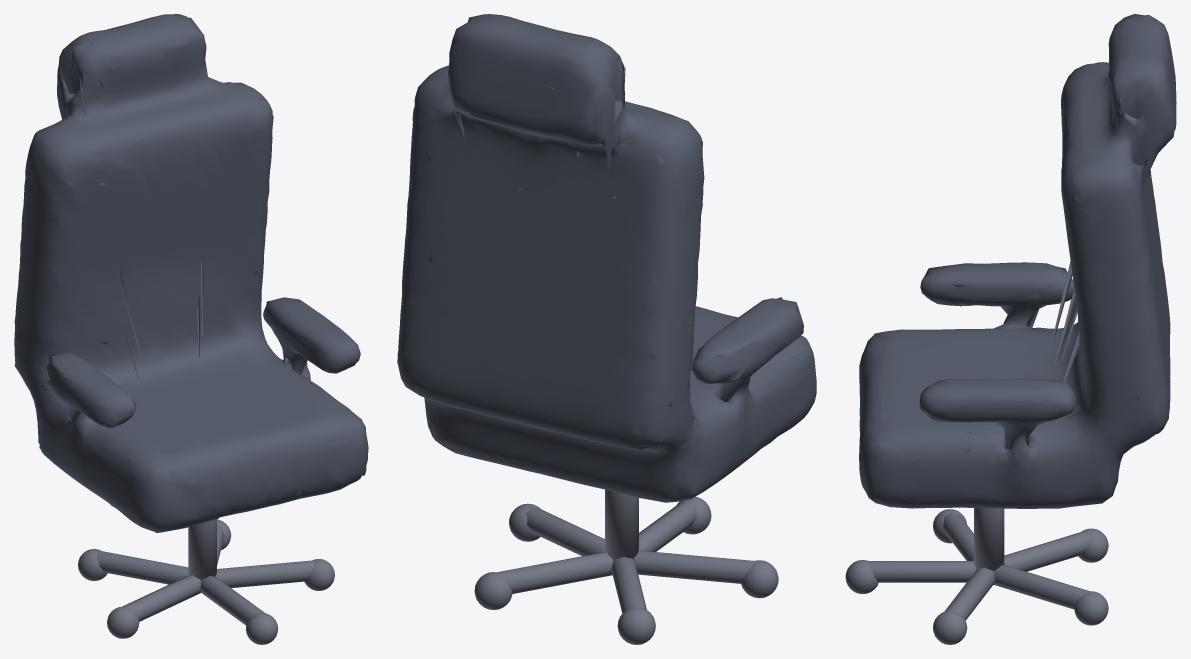
File: chair.glb
3 views of the same model, side by side, from view 1: azimuth 30°, elevation 25°; view 2: azimuth 150°, elevation 25°; view 3: azimuth 270°, elevation 25° (orthographic). The views are drawn at different scales.
Parts seen in each view (by area): view 1: Chair, Leg1, Leg3, Leg4, Post, Leg0, Wheel4, Wheel0, Wheel1, Wheel3; view 2: Chair, Leg4, Leg2, Post, Leg1, Leg0, Leg3, Wheel3, Wheel2, Wheel4, Wheel1, Wheel0; view 3: Chair, Leg0, Leg2, Post, Leg3, Leg1, Leg4, Wheel1, Wheel2, Wheel0, Wheel3.
Part boxes in pixels (x1,y1,x2,y2): Chair: (14,14,368,532); Leg1: (216,560,317,587); Leg3: (94,550,188,584); Leg4: (122,575,200,621); Post: (188,519,216,592); Leg0: (200,576,264,625); Wheel4: (107,606,139,638); Wheel0: (246,613,278,644); Wheel1: (304,559,334,590); Wheel3: (78,549,107,580); Chair: (397,14,816,502); Leg4: (633,550,758,583); Leg2: (494,552,613,593); Post: (605,489,638,560); Leg1: (525,505,604,556); Leg0: (639,498,696,551); Leg3: (611,556,646,613); Wheel3: (617,607,655,644); Wheel2: (474,572,512,609); Wheel4: (741,560,778,598); Wheel1: (509,503,540,541); Wheel0: (676,496,711,534); Chair: (859,14,1176,522); Leg0: (863,561,976,582); Leg2: (994,565,1090,609); Post: (974,508,1004,584); Leg3: (1004,530,1091,571); Leg1: (944,567,995,620); Leg4: (942,511,973,560); Wheel1: (933,611,967,644); Wheel2: (1074,591,1108,625); Wheel0: (845,560,878,593); Wheel3: (1078,528,1108,562).
Bounding box in the file's own units: 0.8446 × 1.59 × 0.864.
